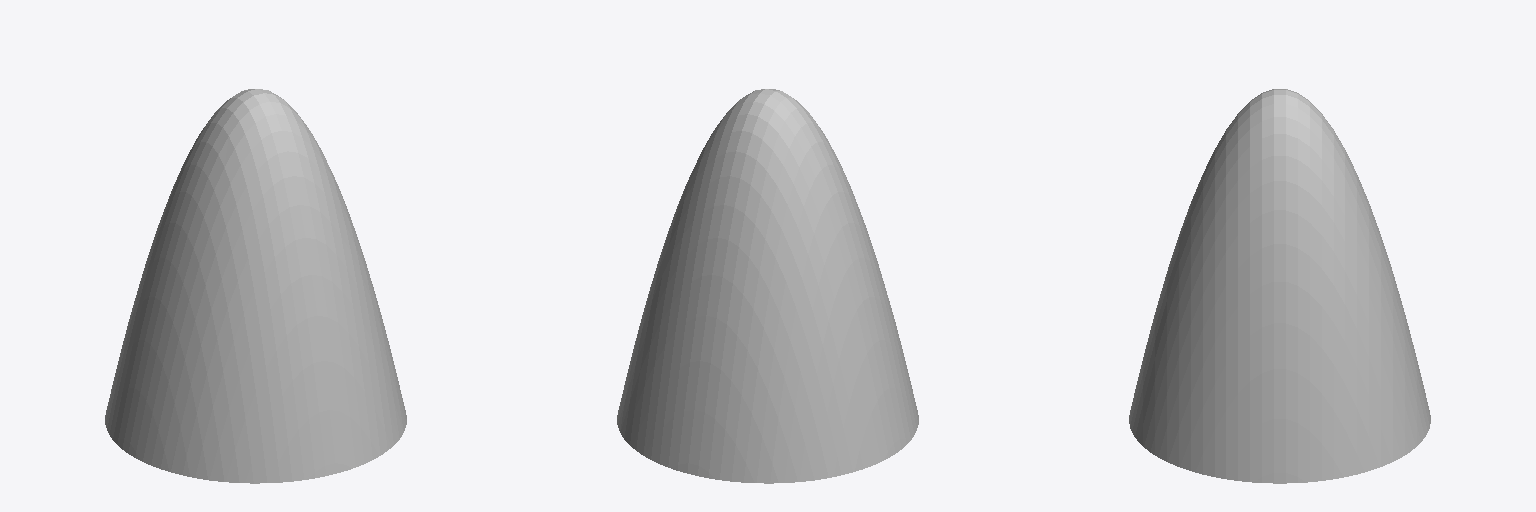
Rendered from Paraboloid_r_6cm_h_7.2cm_f_1.25cm.obj.
3 renders of one model, left to right at view 1: azimuth 30°, elevation 25°; view 2: azimuth 150°, elevation 25°; view 3: azimuth 270°, elevation 25°, orthographic.
Parts seen in each view (by area): view 1: Small_Paraboloid_Z_Function.003; view 2: Small_Paraboloid_Z_Function.003; view 3: Small_Paraboloid_Z_Function.003.
Boxes of the visible parts, <box> form: Small_Paraboloid_Z_Function.003: <box>105,89,406,483</box>; Small_Paraboloid_Z_Function.003: <box>617,89,918,483</box>; Small_Paraboloid_Z_Function.003: <box>1129,89,1430,483</box>.
Bounding box in the file's own units: 0.0599 × 0.0718 × 0.0599.